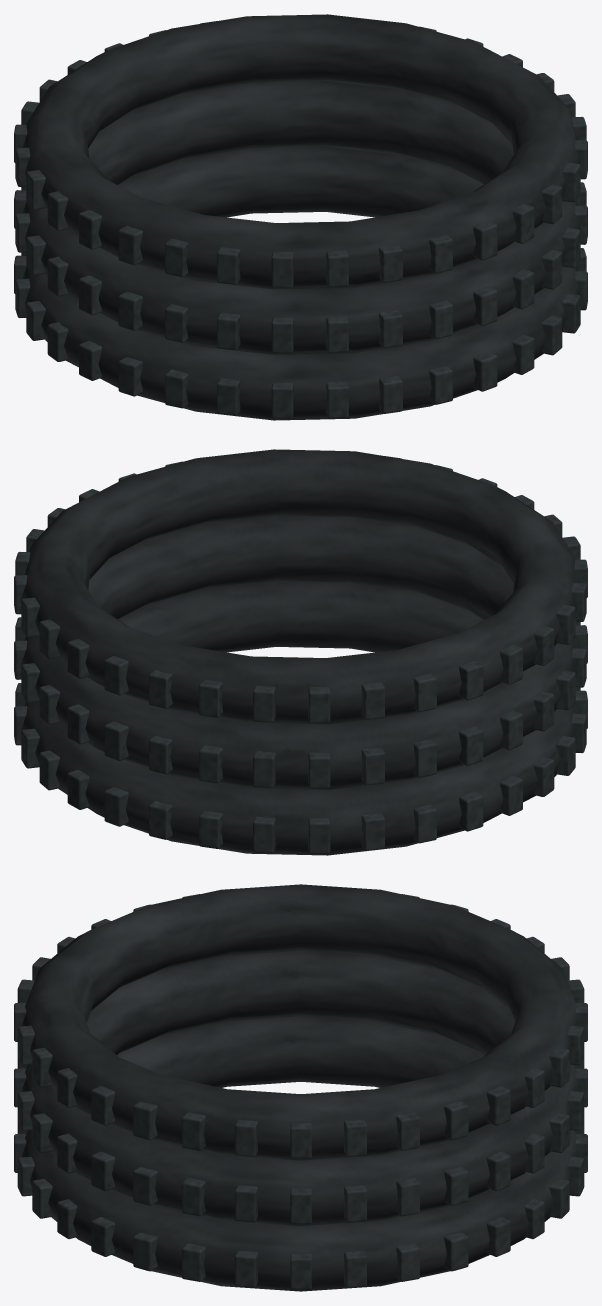
Rendered from GR_SpareTires_04.glb.
The picture shows the model from 3 angles, top to bottom: view 1: azimuth 30°, elevation 25°; view 2: azimuth 150°, elevation 25°; view 3: azimuth 270°, elevation 25°; orthographic projection.
Parts seen in each view (by area): view 1: Static; view 2: Static; view 3: Static.
Part boxes in pixels (bbox=[...]): Static: bbox=[14, 14, 587, 420]; Static: bbox=[14, 449, 587, 855]; Static: bbox=[14, 884, 587, 1291].
Bounding box in the file's own units: 0.532 × 0.193 × 0.532.
Materials: 1 (1 with a texture image).
